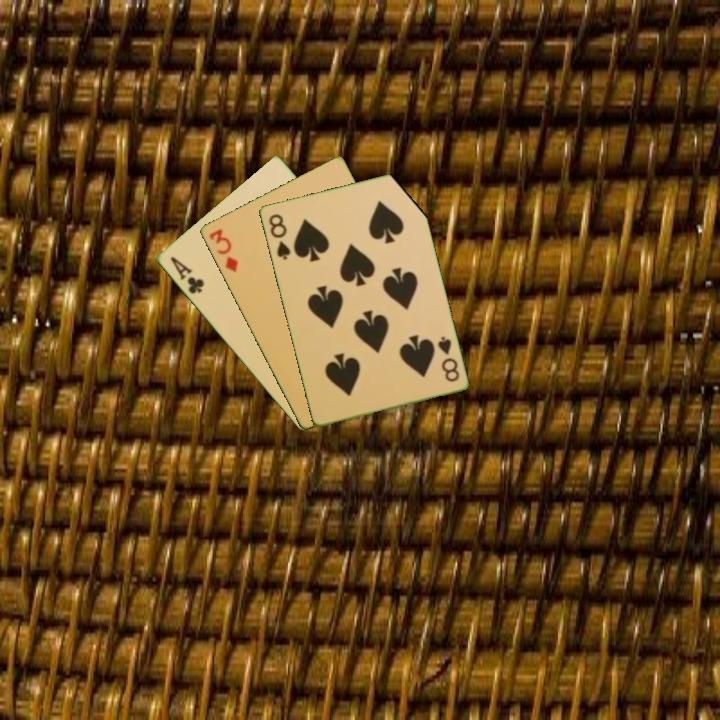3d: (205, 225, 240, 275)
8s: (265, 210, 293, 263), (434, 333, 462, 385)
Ac: (167, 253, 207, 297)
